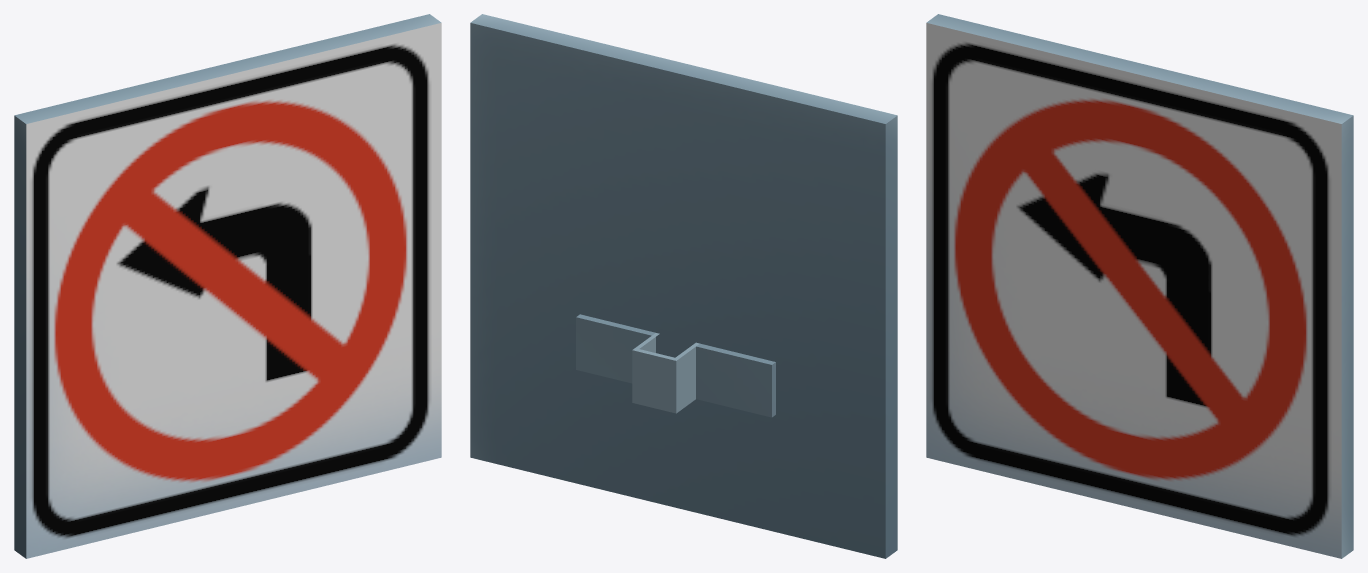
Rendered from Sign15.fbx.
The picture shows the model from 3 angles, left to right: view 1: azimuth 30°, elevation 25°; view 2: azimuth 150°, elevation 25°; view 3: azimuth 330°, elevation 25°; orthographic projection.
Parts seen in each view (by area): view 1: Sign15; view 2: Sign15; view 3: Sign15.
Part boxes in pixels (box(x1,y1,x2,y2)): Sign15: box(14, 14, 441, 558); Sign15: box(470, 14, 897, 558); Sign15: box(926, 14, 1353, 558).
Bounding box in the file's own units: 1 × 0.1489 × 1.
